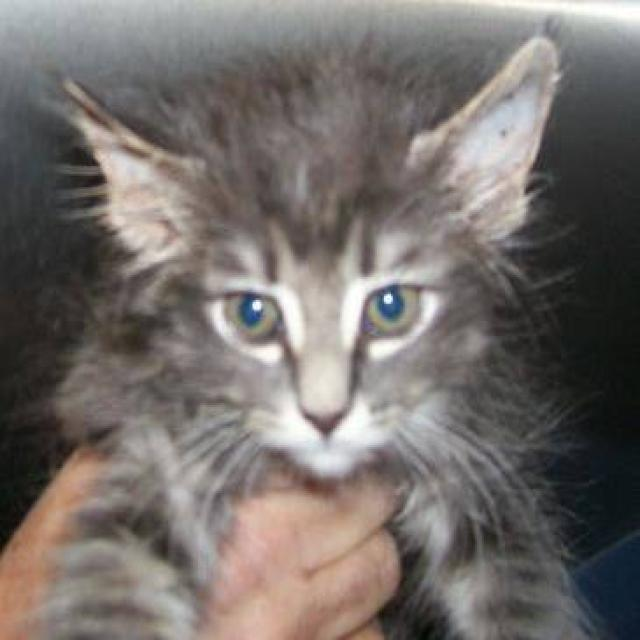cat: (0, 19, 614, 638)
